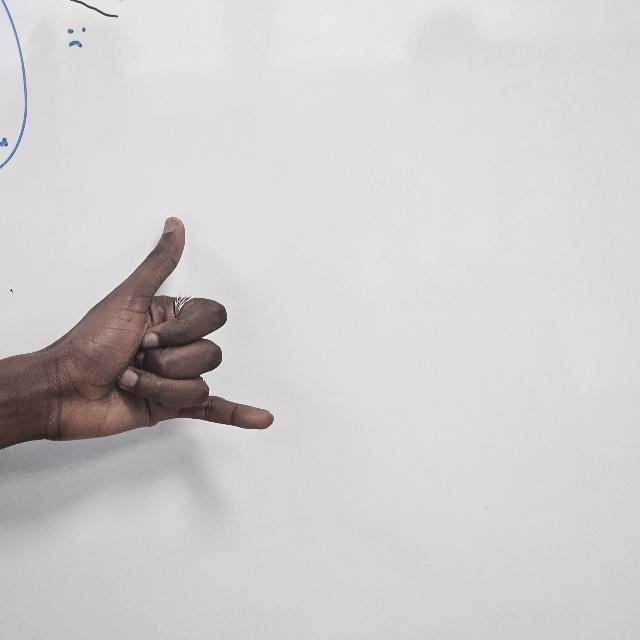Direita: (64, 214, 280, 443)
